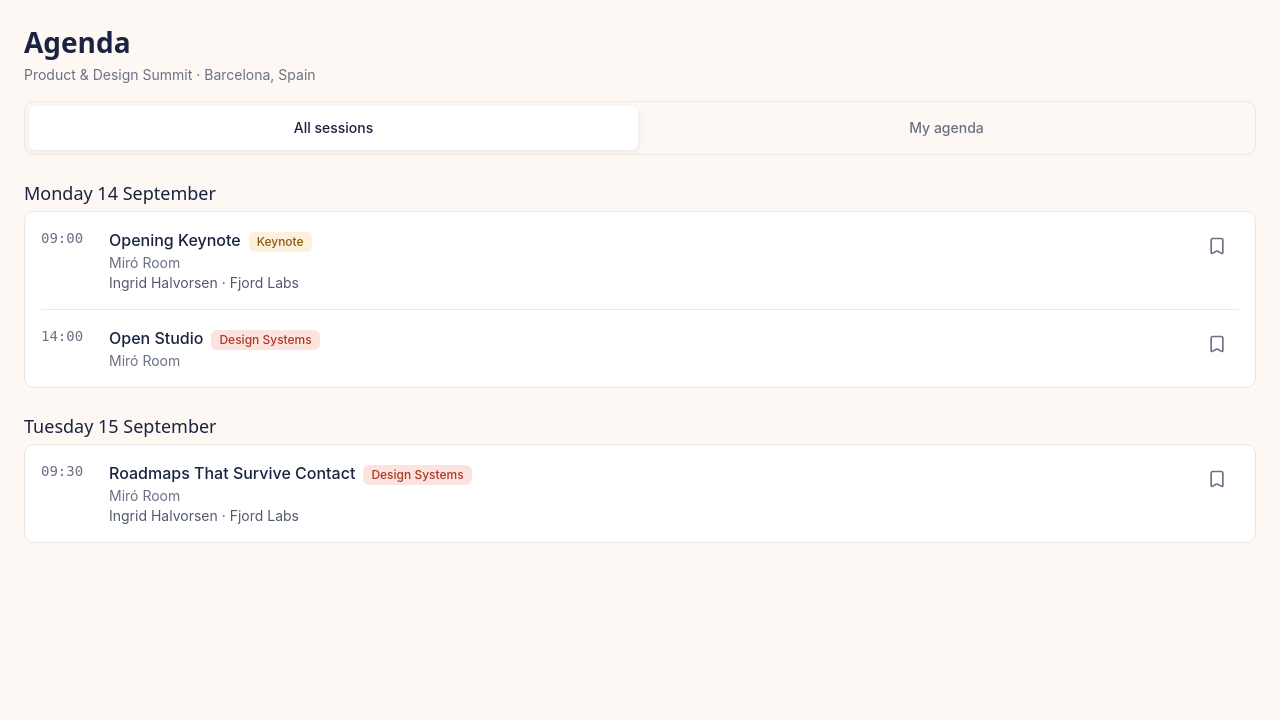
Test: the question composer › enables it as soon as there is something to ask
Click the link "Opening Keynote" at x=175, y=240, box [109,230,241,250]
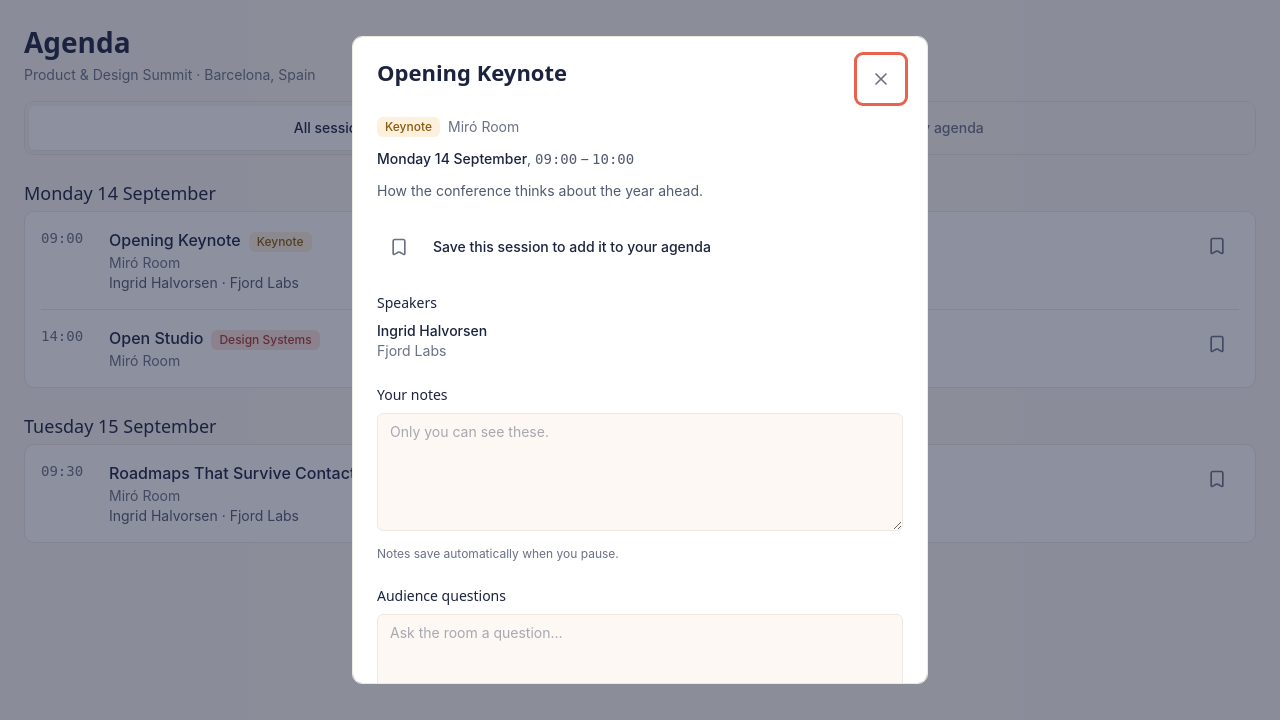
Expected: the heading "Opening Keynote" is shown, [377,57,567,88]
Type "What broke first?" into the text box named "ask a question" at x=640, y=653, box [377,614,903,692]
(page scrolled)
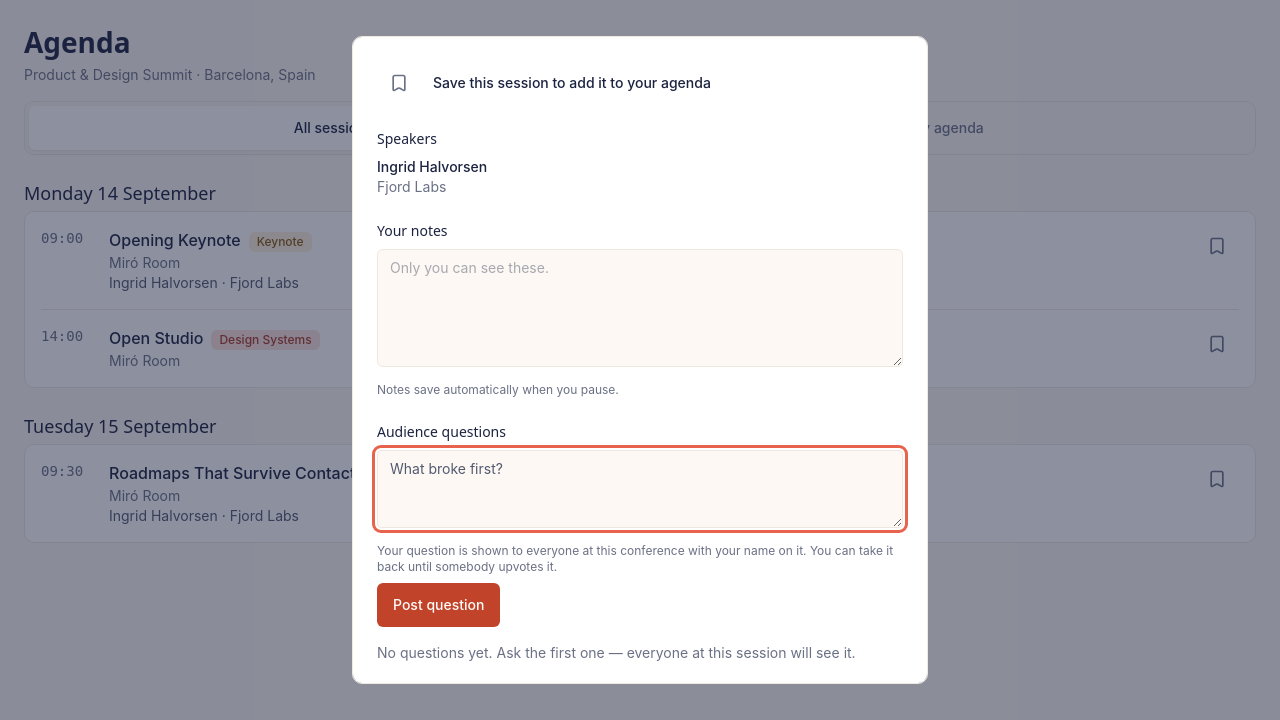
Expected: the button "Post question" is enabled, [377,583,500,627]
